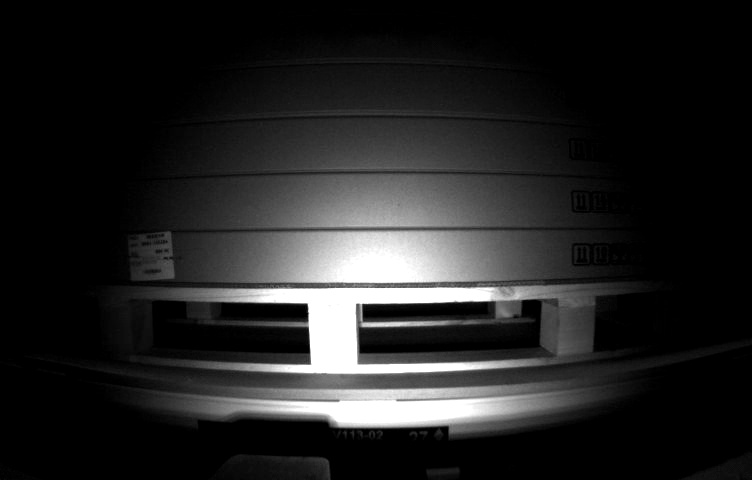True Barcode: (126, 231, 177, 282)
